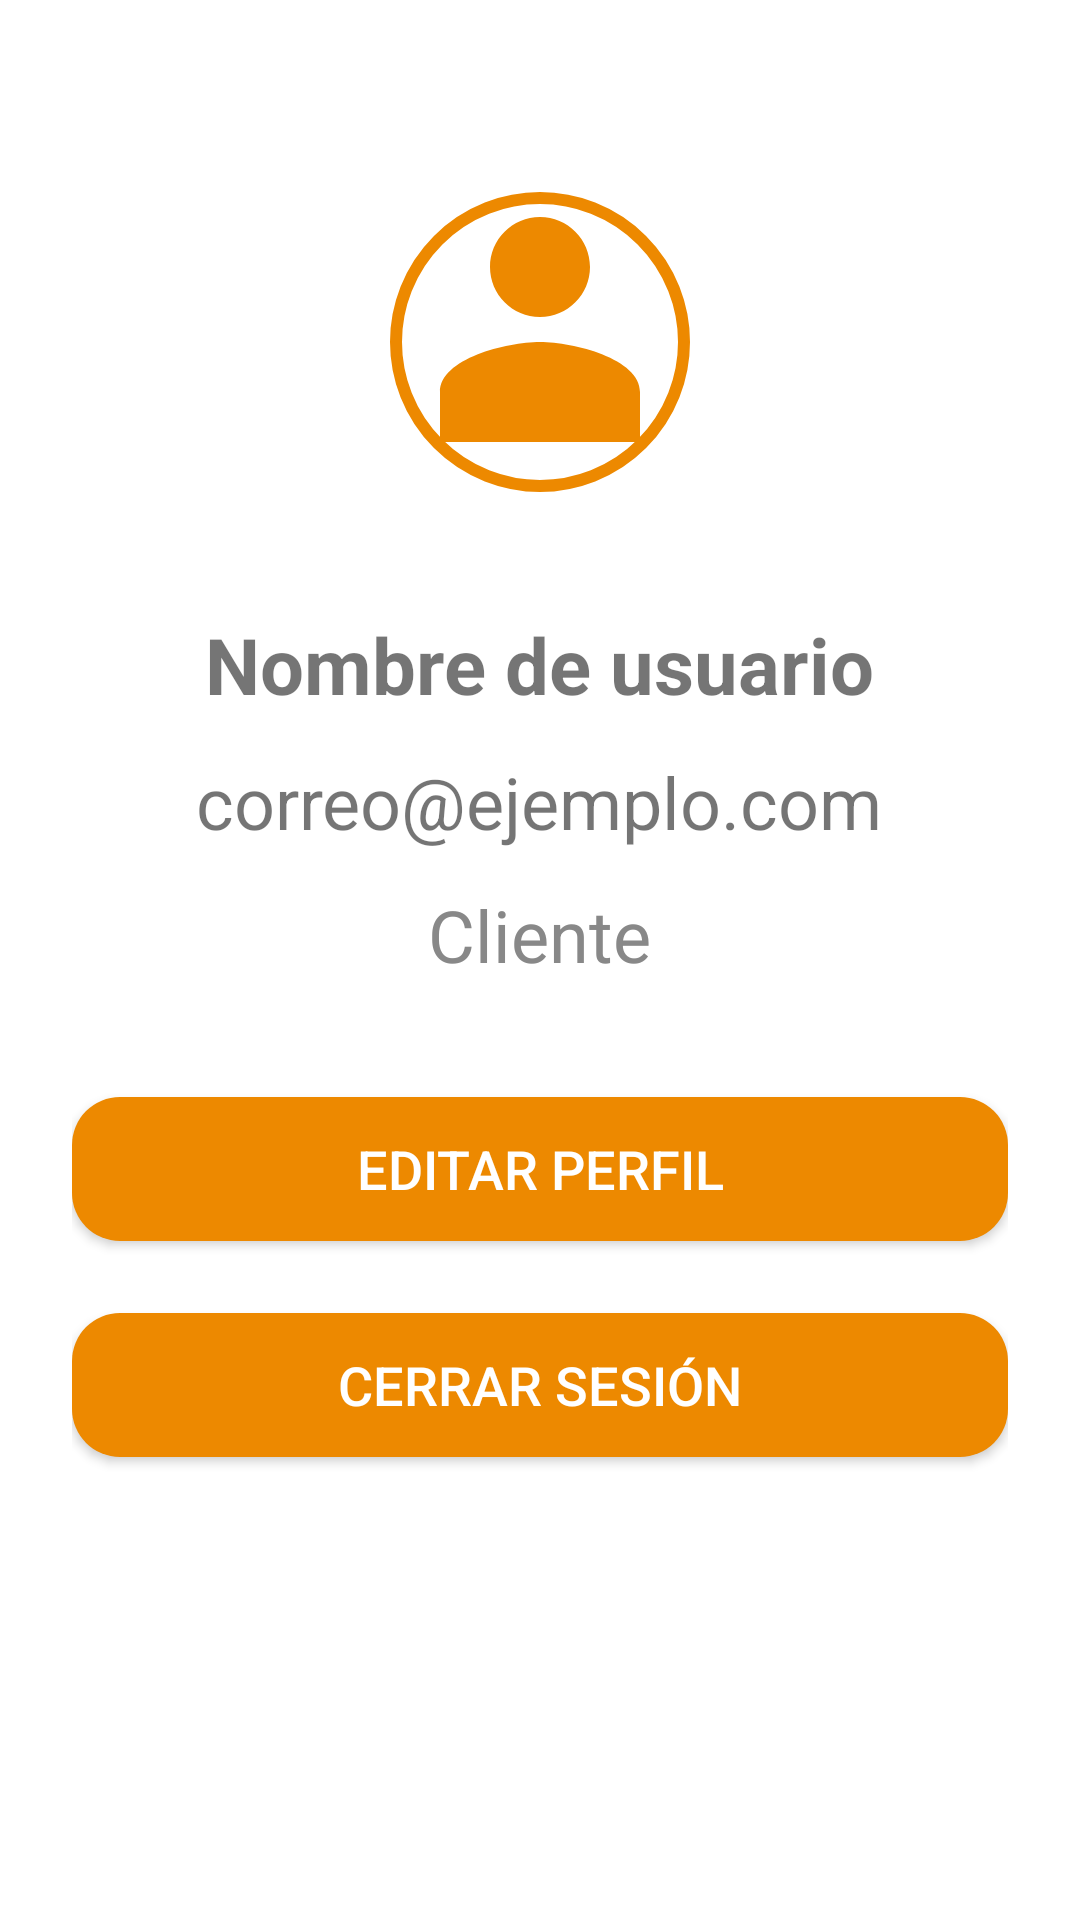

Screen size 1080×1920. Icon name, then its center in pixels as (x=x, y=y):
Avatar: (x=540, y=342)
